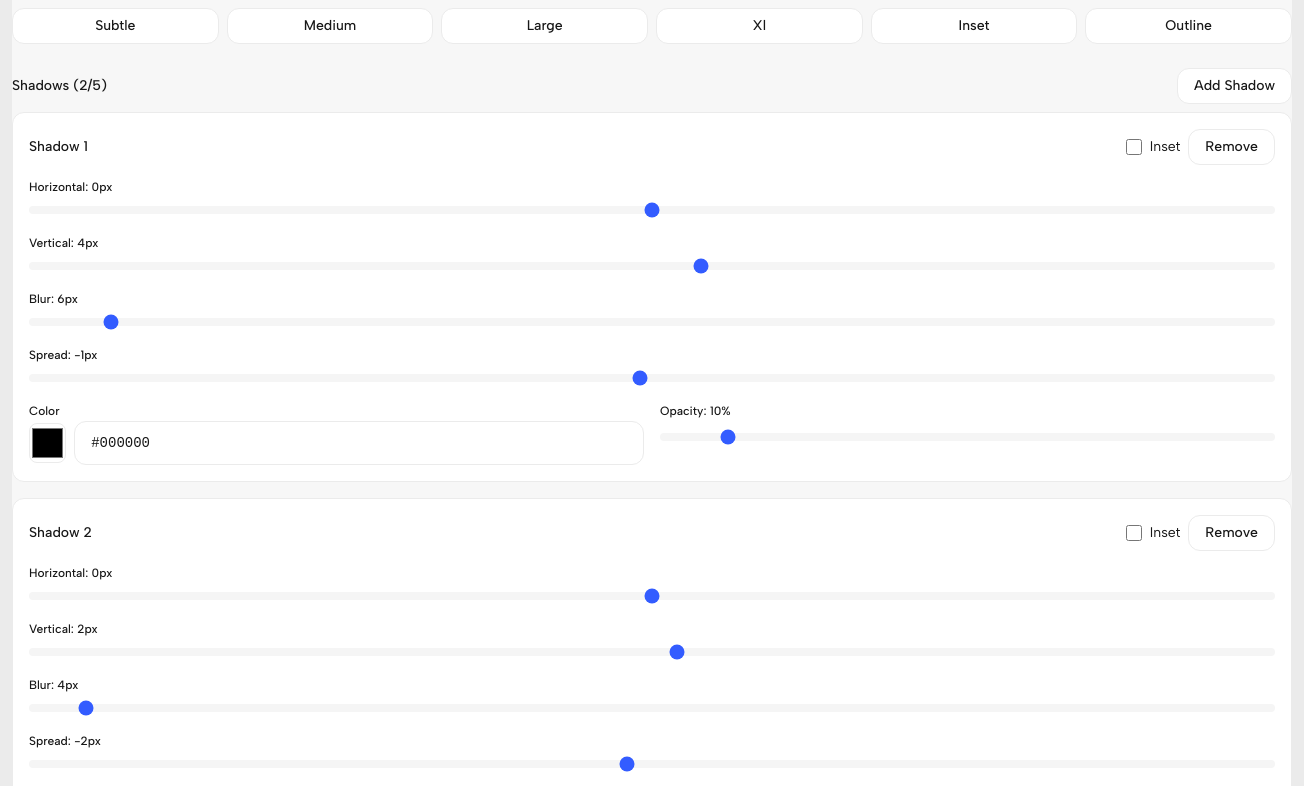
Test case: BoxShadowGeneratorTool › updates CSS output when slider is changed
Set the 3rd slider to "50": x=652, y=322 [29,318,1275,326]
(page scrolled)
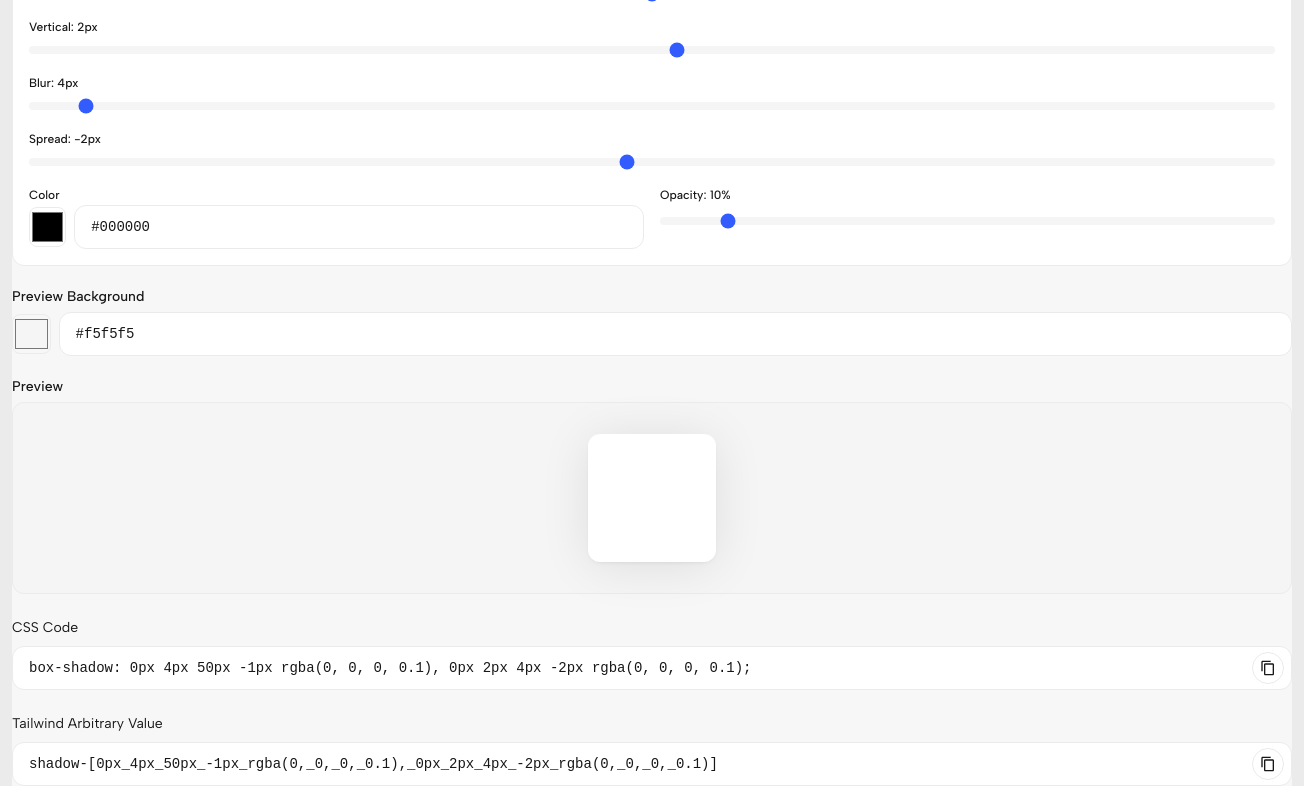
Result: the field below "CSS Code" does not hold "box-shadow: 0px 4px 6px -1px rgba(0, 0, 0, 0.1), 0px 2px 4px -2px rgba(0, 0, 0, 0.1);" at [12,646,1292,690]
